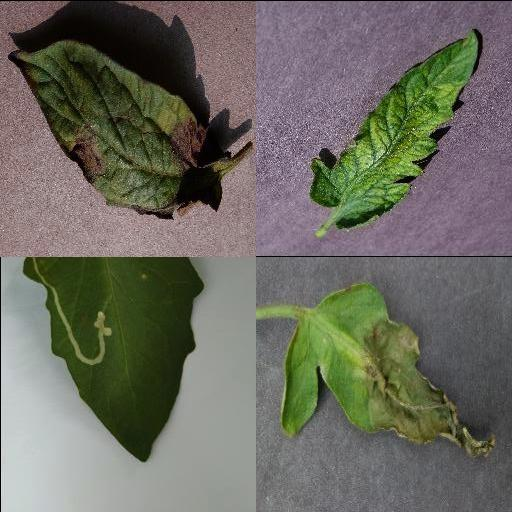Late Blight: (7, 39, 229, 217), (278, 281, 498, 457)
Leaf Miner: (20, 256, 208, 463)
Mosaic Virus: (309, 28, 479, 230)
